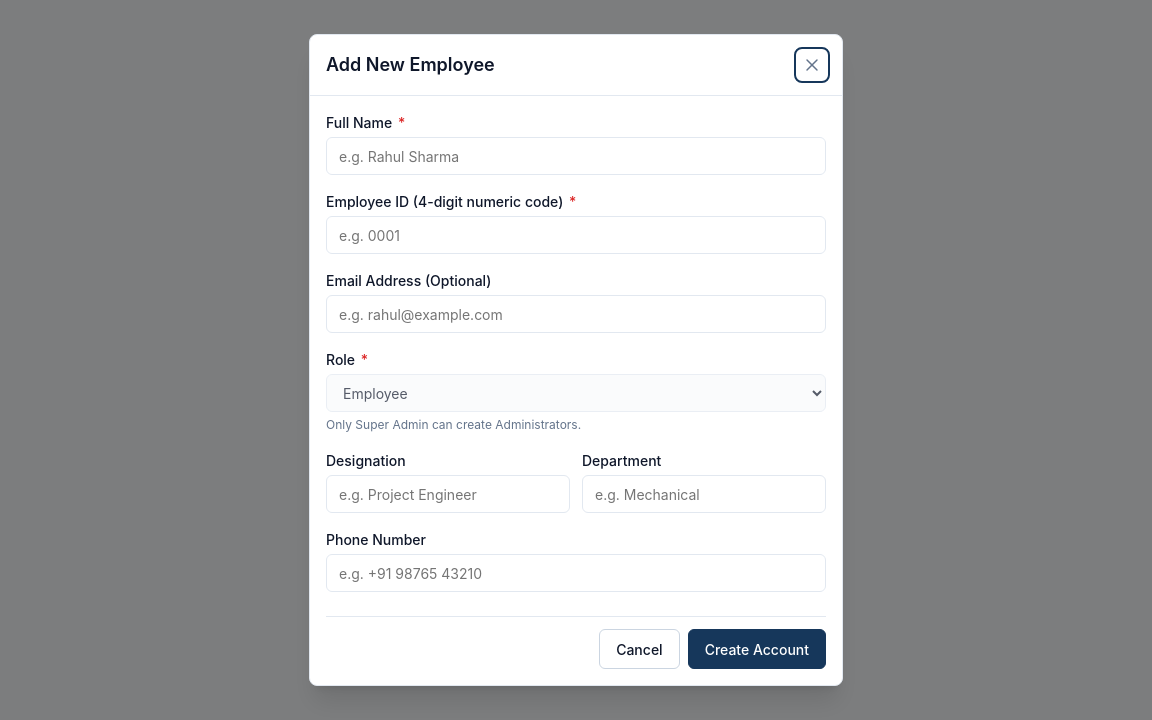
Test: CreateEmployeeModal › renders form fields correctly and enforces required fields
Expected: the form with test id "create-employee-form" is shown, [326,112,826,669]
Expected: the field with test id "create-emp-name-input" is shown, [326,137,826,175]
Click the button with test id "create-emp-submit-btn" at (757, 649), box [688,629,826,669]
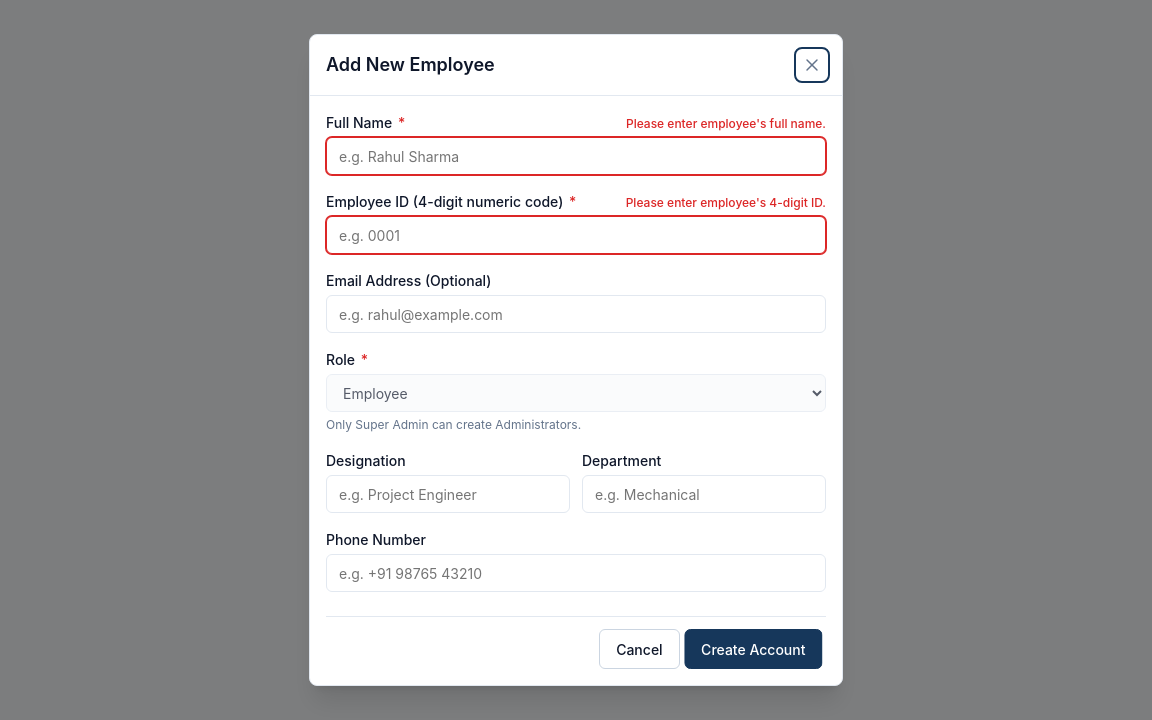
Now the message with test id "error-name" reads "Please enter employee's full name.", box [626,116,826,131]
Now the message with test id "error-code" reads "Please enter employee's 4-digit ID.", box [626,195,826,210]
